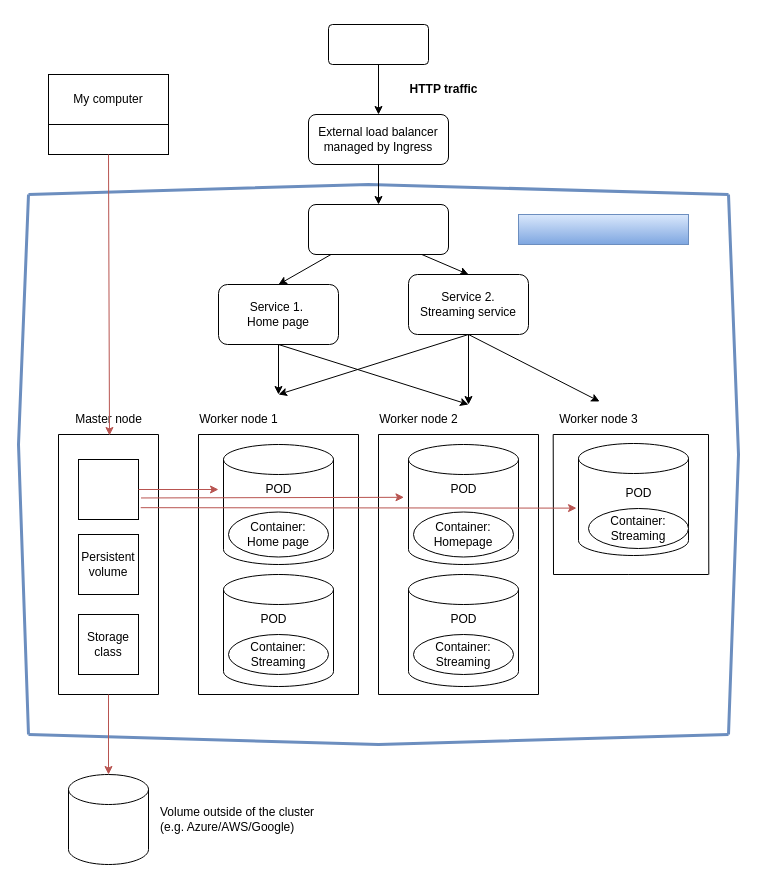
This 758x882 diagram has some shape labels left out. The shapes that lost their labels are listed below. From the top down, each one's box as (x1, y1, x2, y2) in pixels, then its label:
(328, 24, 428, 64): Clients
(48, 124, 168, 154): Kubectl
(308, 204, 448, 254): Ingress
(518, 214, 688, 244): Kubernetes Cluster
(78, 458, 138, 520): API services
(68, 774, 148, 864): Volume
